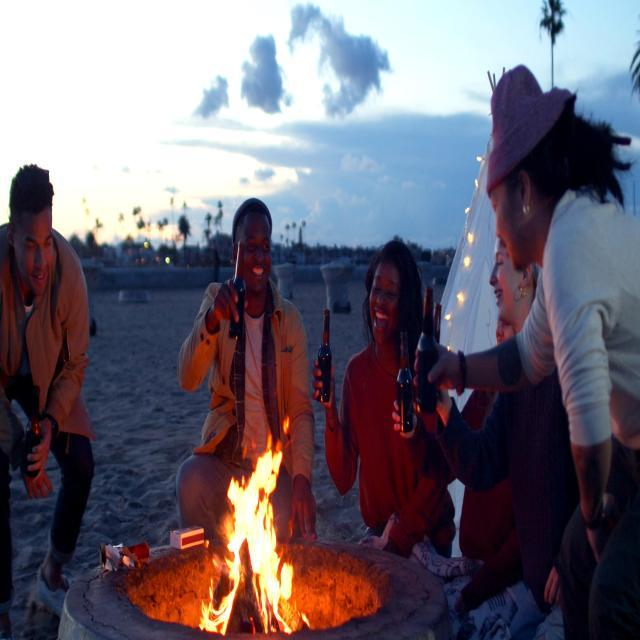Fire: (204, 434, 303, 636)
